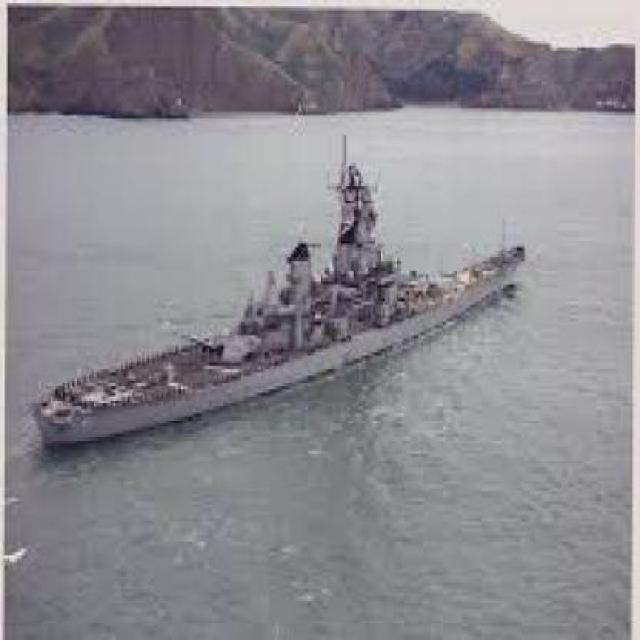warship2: (29, 134, 531, 460)
